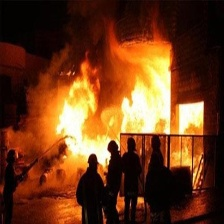fire: (54, 63, 208, 161)
smoke: (12, 76, 53, 198)
